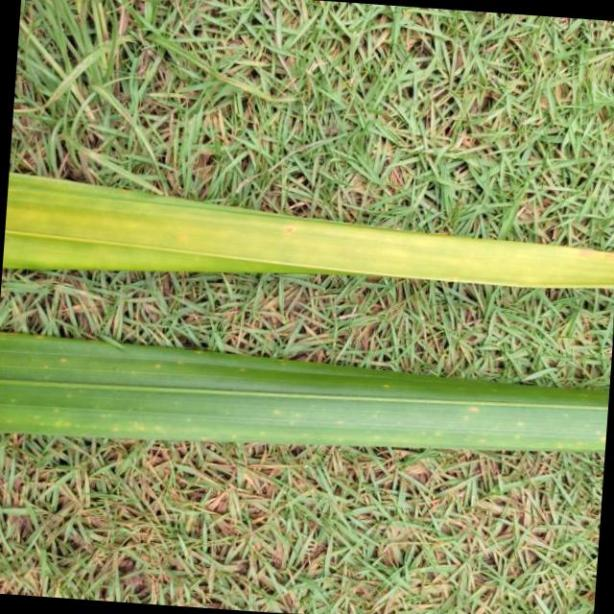nitrogen: (0, 320, 614, 459), (3, 156, 614, 278)
